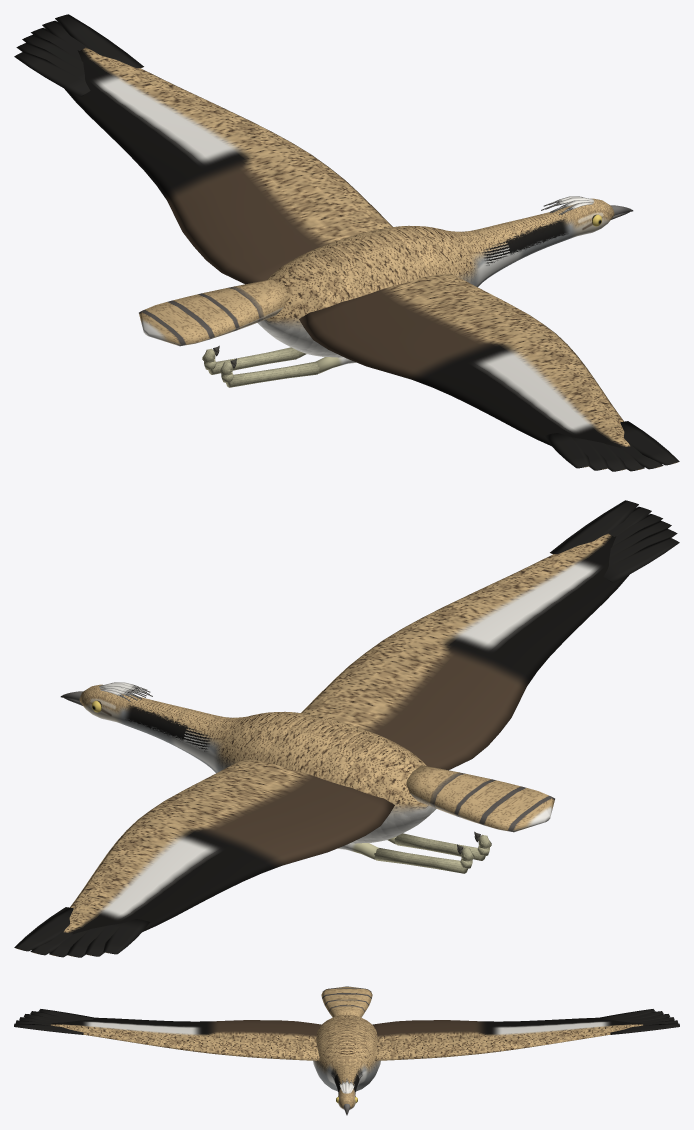
Rendered from houbara_flight.glb.
3 views of the same model, one above another, from view 1: azimuth 30°, elevation 25°; view 2: azimuth 150°, elevation 25°; view 3: azimuth 270°, elevation 25° (orthographic). The views are drawn at different scales.
Parts seen in each view (by area): view 1: houbara_body; view 2: houbara_body; view 3: houbara_body.
Part boxes in pixels (x1=…): houbara_body: x1=14, y1=14, x2=679, y2=471; houbara_body: x1=14, y1=500, x2=679, y2=957; houbara_body: x1=14, y1=986, x2=679, y2=1115.
Bounding box in the file's own units: 0.6491 × 0.1423 × 1.41.
1 material, 1 textured.
